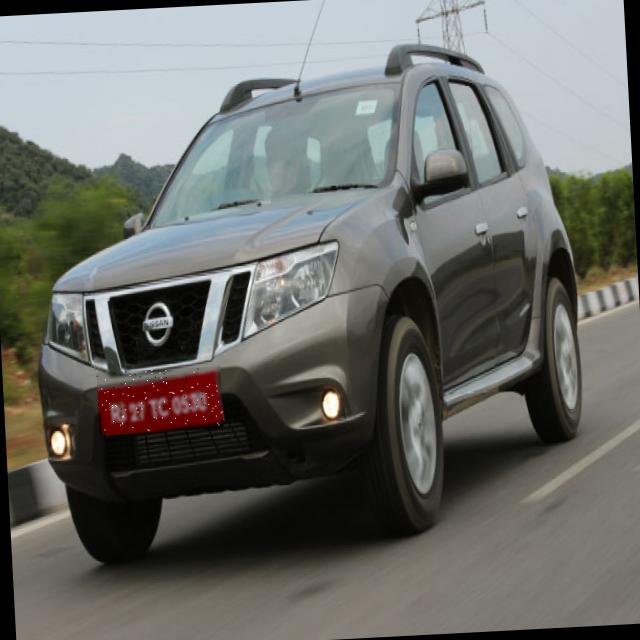Plate: (98, 368, 225, 436)
